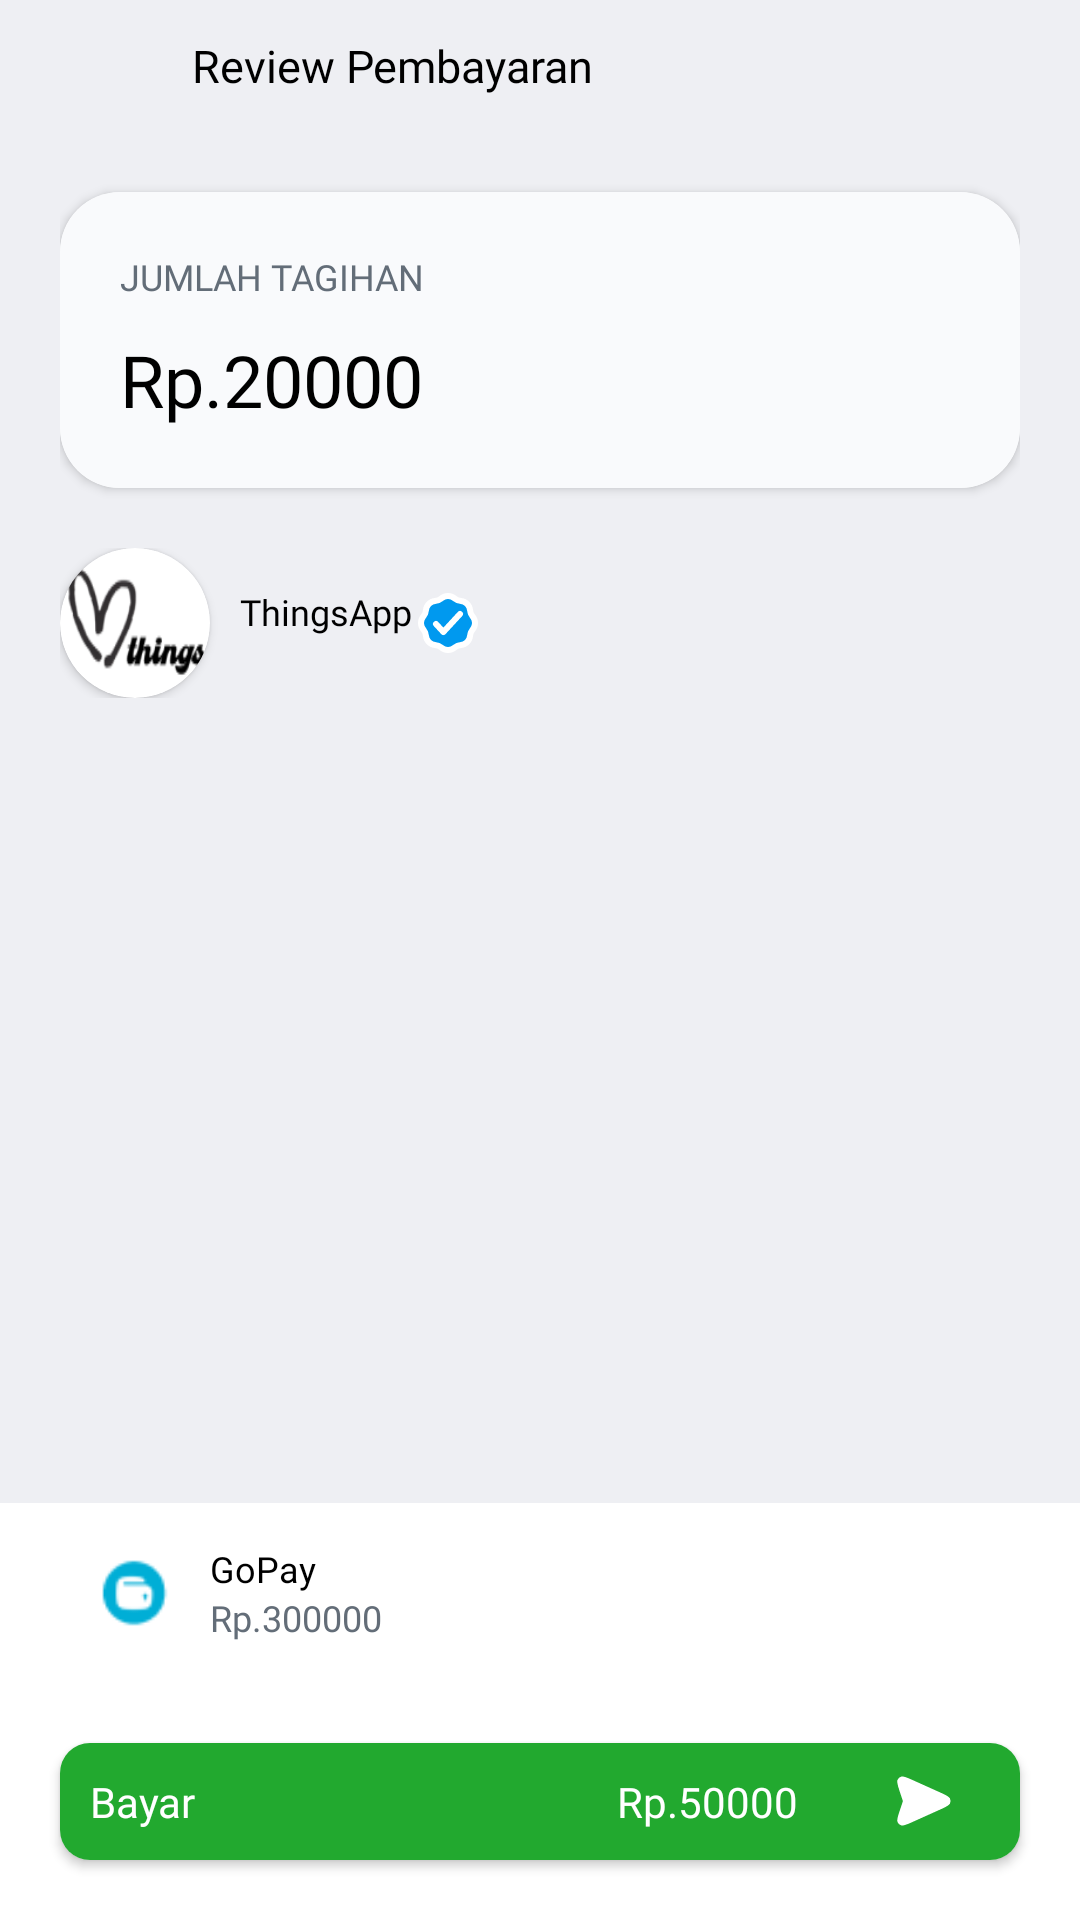

Screen size 1080px×1920px. Icon name, then its box in pixels as (x1, y1, x2, y2):
send: (897, 1776, 951, 1826)
